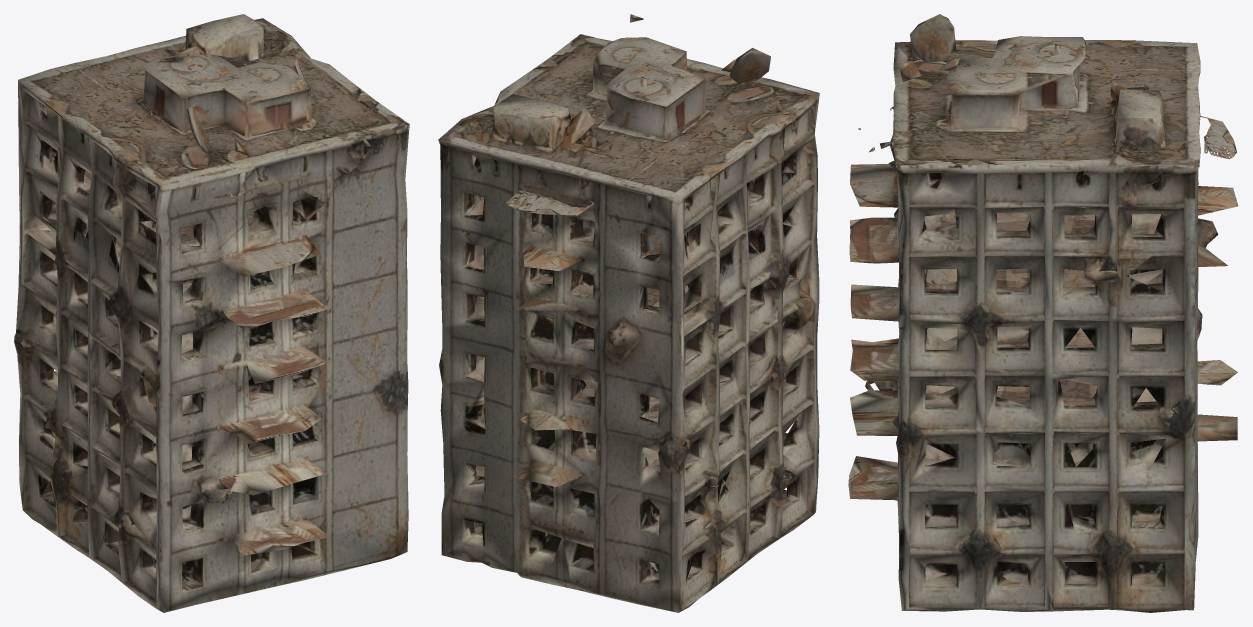
Rendered from Bldg_MidRise.glb.
3 views of the same model, side by side, from view 1: azimuth 30°, elevation 25°; view 2: azimuth 150°, elevation 25°; view 3: azimuth 270°, elevation 25° (orthographic). The views are drawn at different scales.
Visible parts, largest first — view 1: texture_mapping; view 2: texture_mapping; view 3: texture_mapping.
Part boxes in pixels (left/top/right/bottom): texture_mapping: left=14, top=14, right=409, bottom=612; texture_mapping: left=438, top=14, right=819, bottom=612; texture_mapping: left=848, top=14, right=1238, bottom=612.
Bounding box in the file's own units: 0.5183 × 0.9222 × 0.6309.
1 material, 1 textured.
